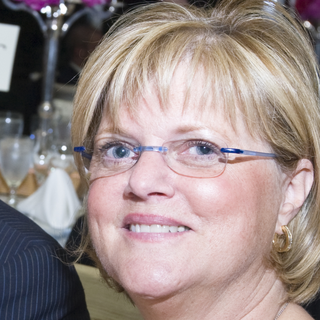eye: (98, 140, 141, 165), (180, 138, 223, 161)
